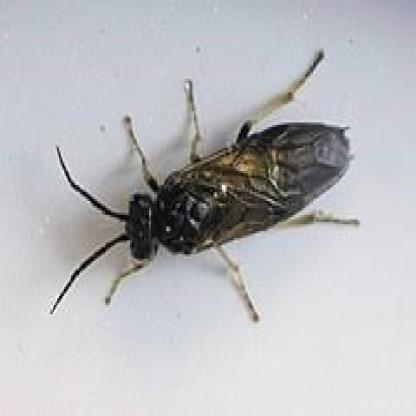sawfly: (49, 41, 368, 350)
